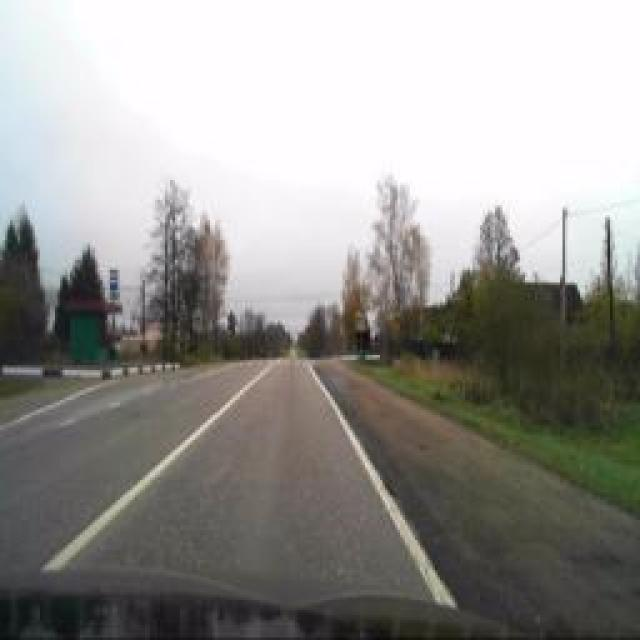sign: (191, 312, 201, 330), (356, 314, 364, 331)
